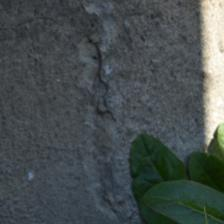Crack: (40, 3, 85, 122)
